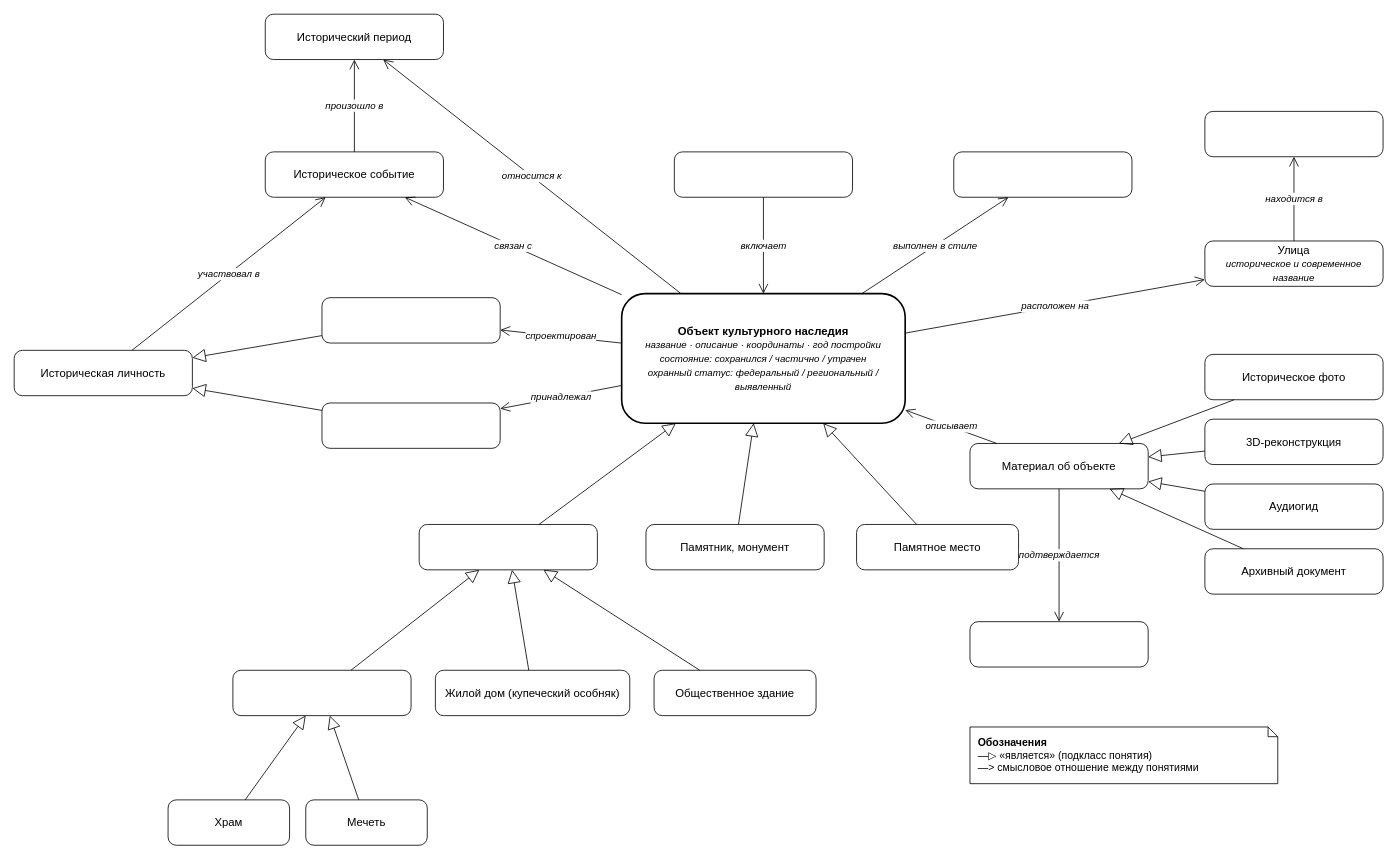
Some shapes in this 1397 by 859 pixel diagram are drawn without their labels. Each missing label, with the box of its shape:
Архитектор: (321, 297, 500, 343)
Архитектурный стиль классицизм, модерн, эклектика…: (953, 151, 1132, 197)
Владелец (купец, меценат): (321, 402, 500, 448)
Здание или сооружение: (418, 524, 597, 570)
Источник сведений архив, публикация, свидетельство жителя: (969, 621, 1148, 667)
Культовое сооружение: (232, 669, 411, 716)
Район города: (1204, 111, 1383, 157)
Тематический маршрут: (674, 151, 853, 197)
